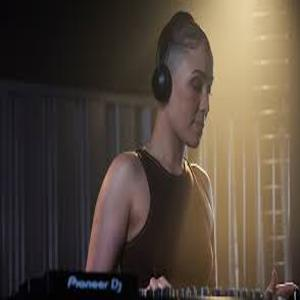Headphones: (149, 9, 213, 109)
